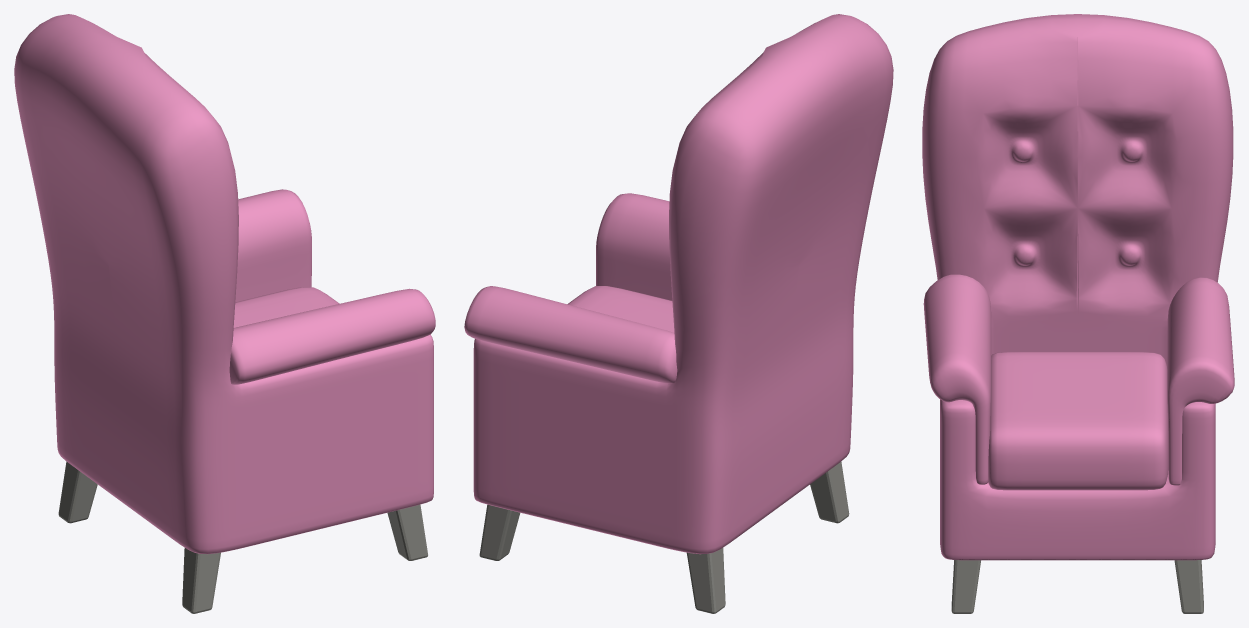
3 renders of one model, left to right at view 1: azimuth 30°, elevation 25°; view 2: azimuth 150°, elevation 25°; view 3: azimuth 270°, elevation 25°, orthographic. The views are drawn at different scales.
Visible parts, largest first — view 1: chair2-pastelpink; view 2: chair2-pastelpink; view 3: chair2-pastelpink.
Boxes of the visible parts, box(x1,y1,x2,y2) form: chair2-pastelpink: box(14, 14, 435, 613); chair2-pastelpink: box(464, 14, 893, 613); chair2-pastelpink: box(922, 14, 1234, 613).
Bounding box in the file's own units: 110 × 187 × 110.
